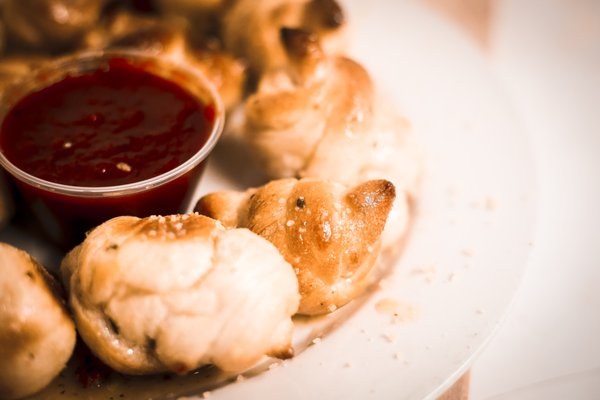sushi: (0, 50, 225, 248)
